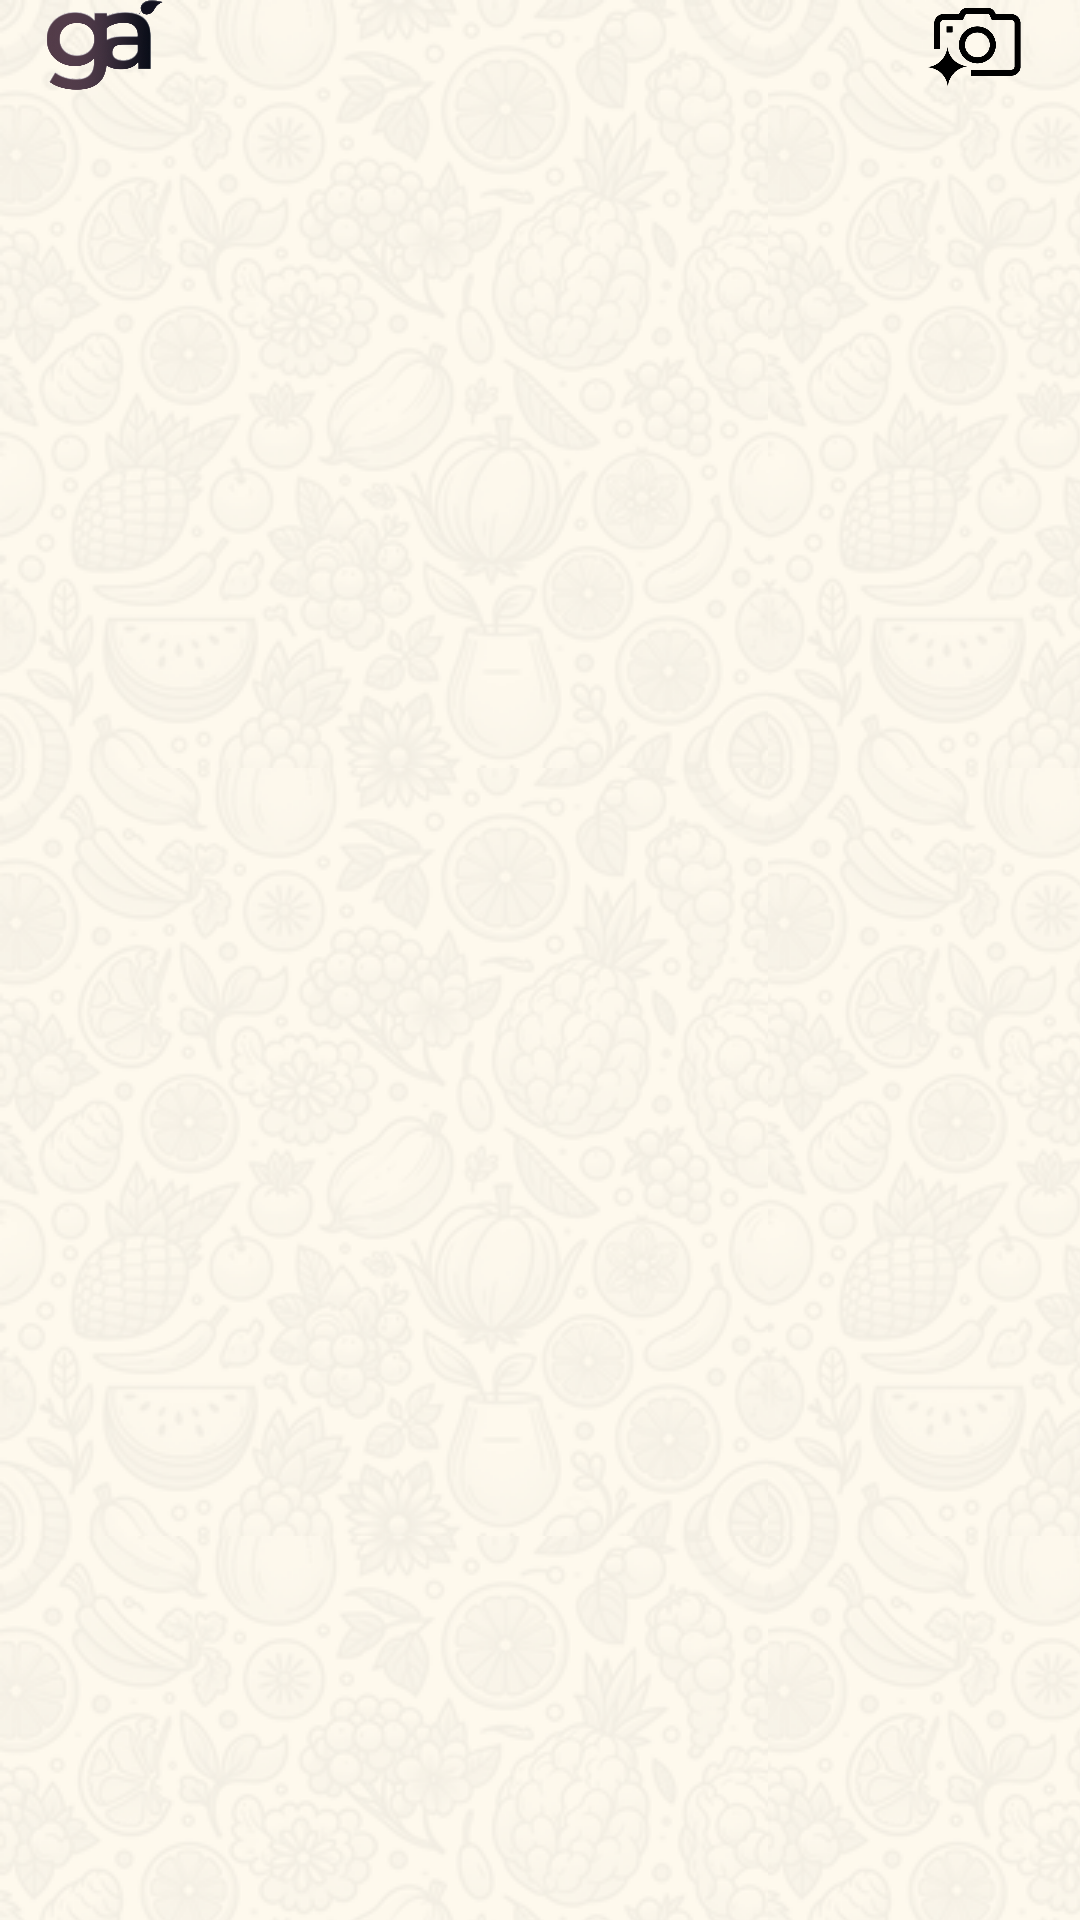

Locate icon controls on the screen. Image size 1080 x 1920, boxes as (x1, y1, x2, y2).
Camera Button: (928, 8, 1021, 86)
